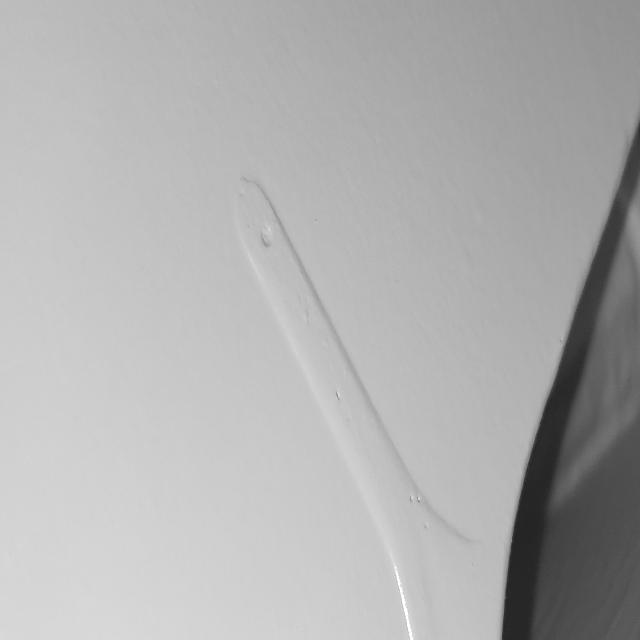paint drips: (218, 150, 482, 640)
